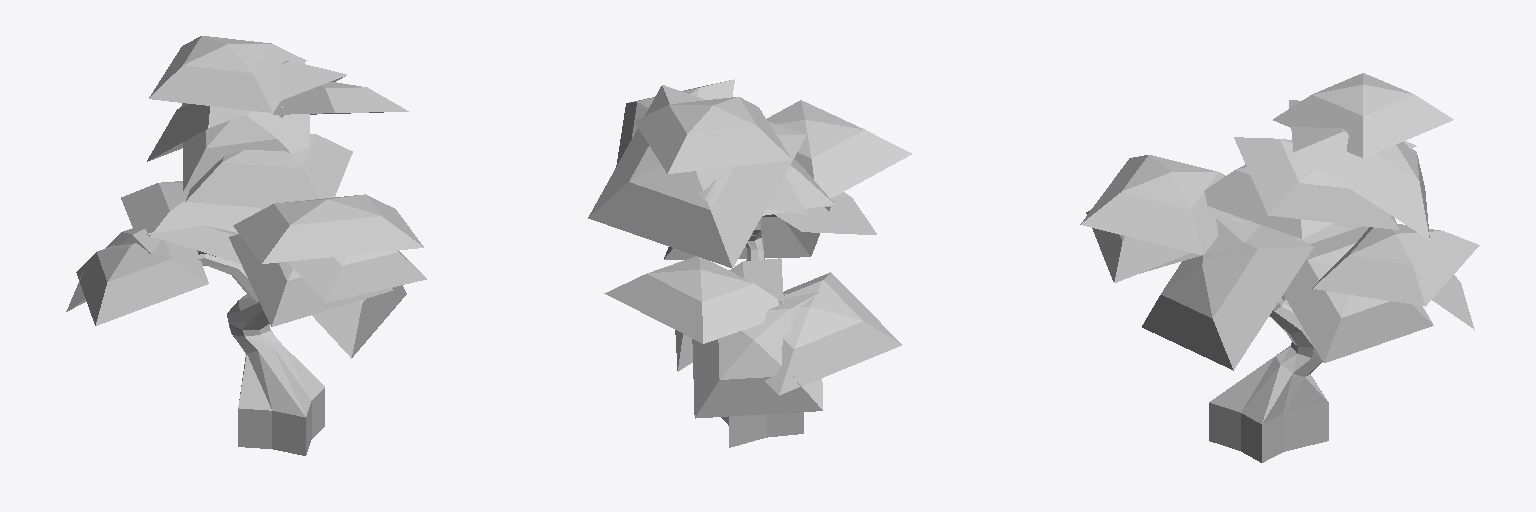
Rendered from cherry.obj.
3 views of the same model, side by side, from view 1: azimuth 30°, elevation 25°; view 2: azimuth 150°, elevation 25°; view 3: azimuth 270°, elevation 25° (orthographic).
Parts seen in each view (by area): view 1: Circle; view 2: Circle; view 3: Circle.
Part boxes in pixels (left/top/right/bottom): Circle: left=66, top=36, right=426, bottom=455; Circle: left=588, top=79, right=911, bottom=447; Circle: left=1080, top=73, right=1479, bottom=462.
Size of the model in its own units: 7.72 by 8.88 by 9.05.